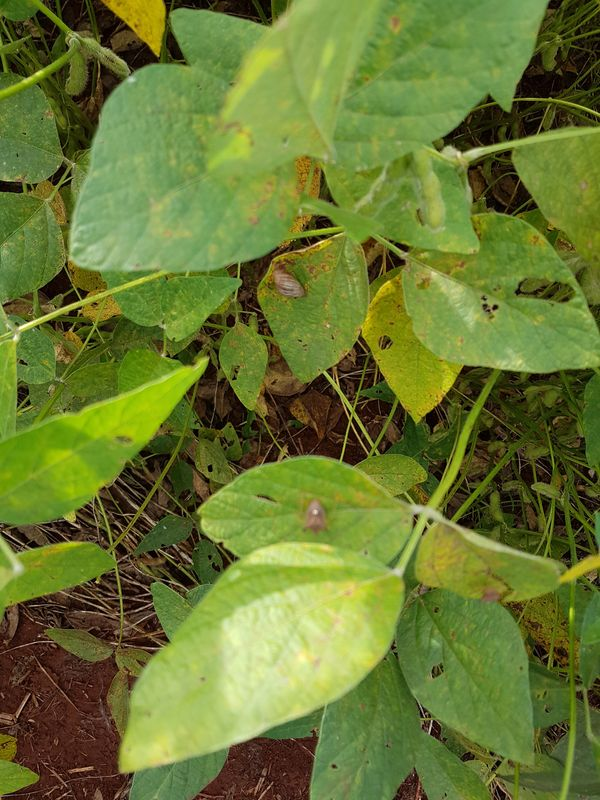Euschistus_heros_adulto: (290, 492, 339, 544)
Gastropoda: (259, 261, 316, 310)
